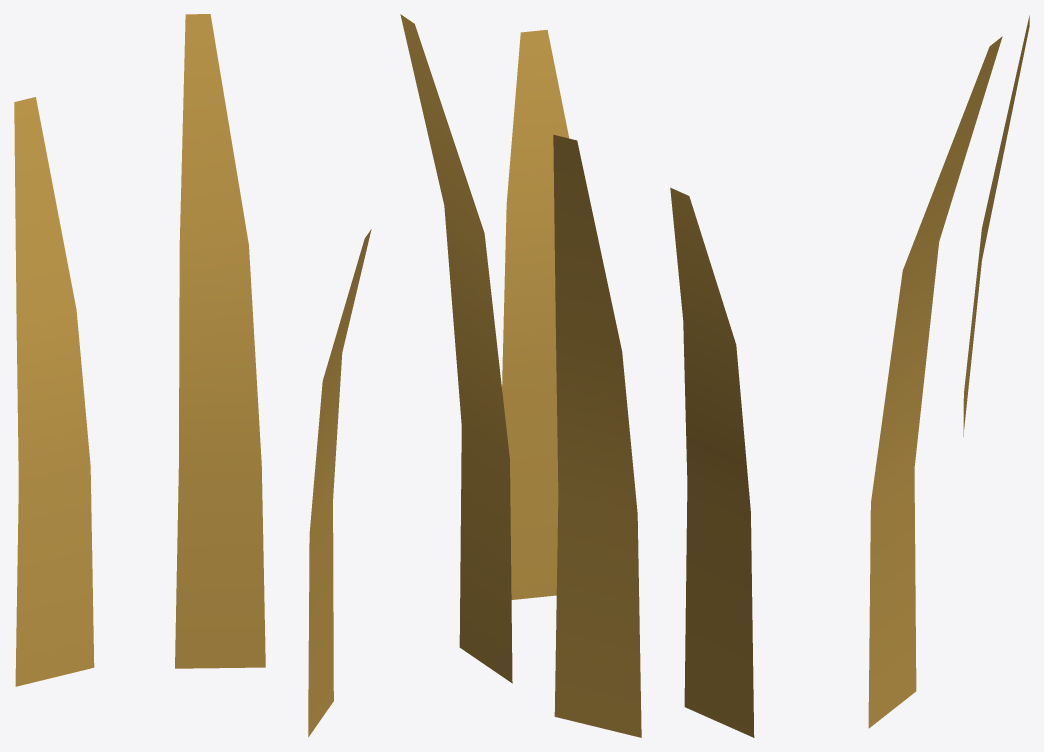
File: Grass_3.fbx
3 views of the same model, side by side, from view 1: azimuth 30°, elevation 25°; view 2: azimuth 150°, elevation 25°; view 3: azimuth 270°, elevation 25° (orthographic). The views are drawn at different scales.
Visible parts, largest first — view 1: Plane.001, Plane, Plane.002; view 2: Plane, Plane.002, Plane.001; view 3: Plane.002, Plane.001, Plane.
Part boxes in pixels (<box>): Plane.001: <box>175,14,265,668</box>; Plane: <box>14,97,94,686</box>; Plane.002: <box>308,229,371,737</box>; Plane: <box>553,134,641,737</box>; Plane.002: <box>502,29,569,599</box>; Plane.001: <box>400,14,512,683</box>; Plane.002: <box>670,187,754,737</box>; Plane.001: <box>868,36,1002,728</box>; Plane: <box>963,15,1029,436</box>.
Size of the model in its own units: 13.77 by 34.68 by 16.56.
Materials: 1 (1 with a texture image).
